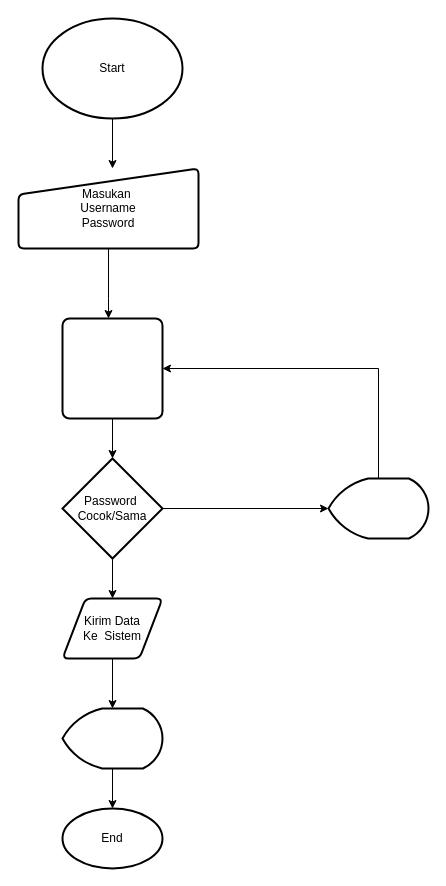
This 446x886 diagram has some shape labels left out. Here are the shapes that lost their labels. From the top down, the centre of each, then its label:
At [112,368]: "Verifikasi Password".
At [378,508]: "Error".
At [112,738]: "Berhasil".
